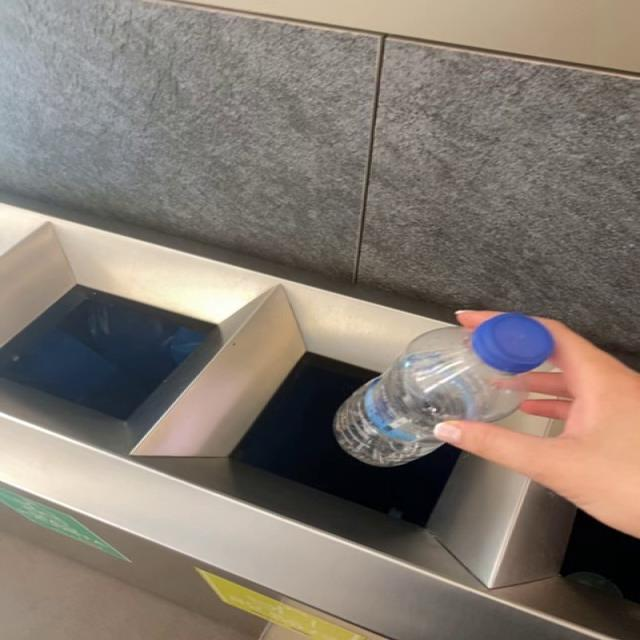Plastic: (335, 313, 555, 468)
